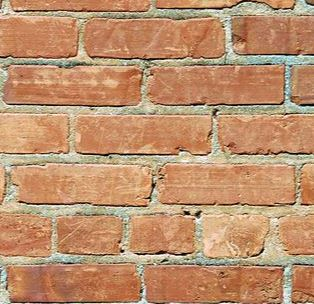brick: (74, 110, 214, 157), (158, 162, 298, 207), (14, 162, 156, 206), (83, 16, 228, 59), (2, 63, 146, 105), (148, 64, 287, 107), (8, 261, 142, 304), (145, 264, 288, 304), (218, 112, 314, 156), (231, 13, 314, 56), (1, 15, 80, 60), (1, 110, 71, 157), (200, 214, 271, 259), (127, 213, 199, 256), (55, 213, 126, 255), (1, 214, 53, 258)
